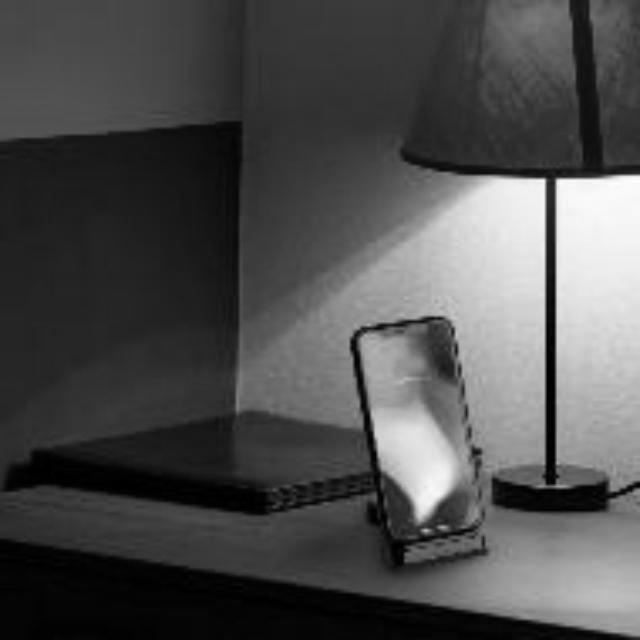fake: (340, 308, 494, 574)
